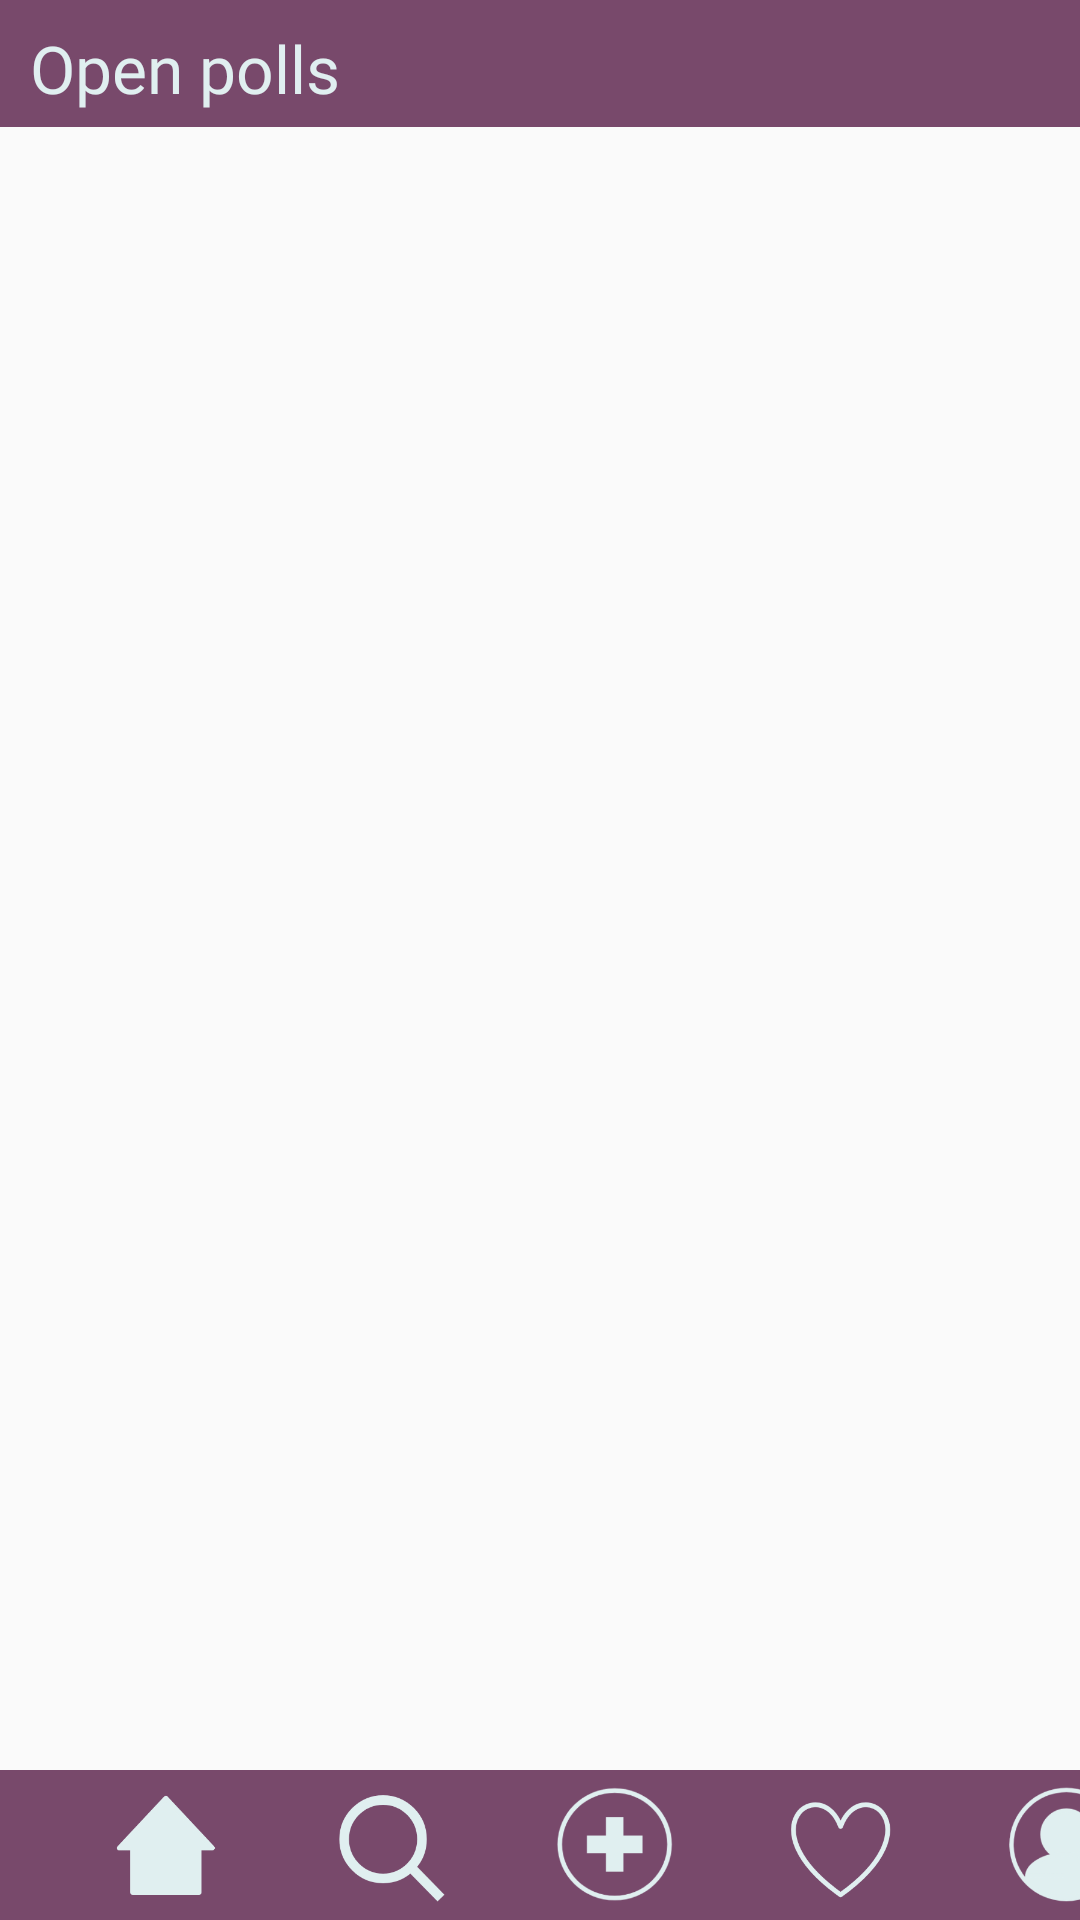

Point at icon controls on the screen. Image size 1080px×1920px, points as (x,y).
add: (614,1844)
home: (166,1845)
search: (392,1848)
